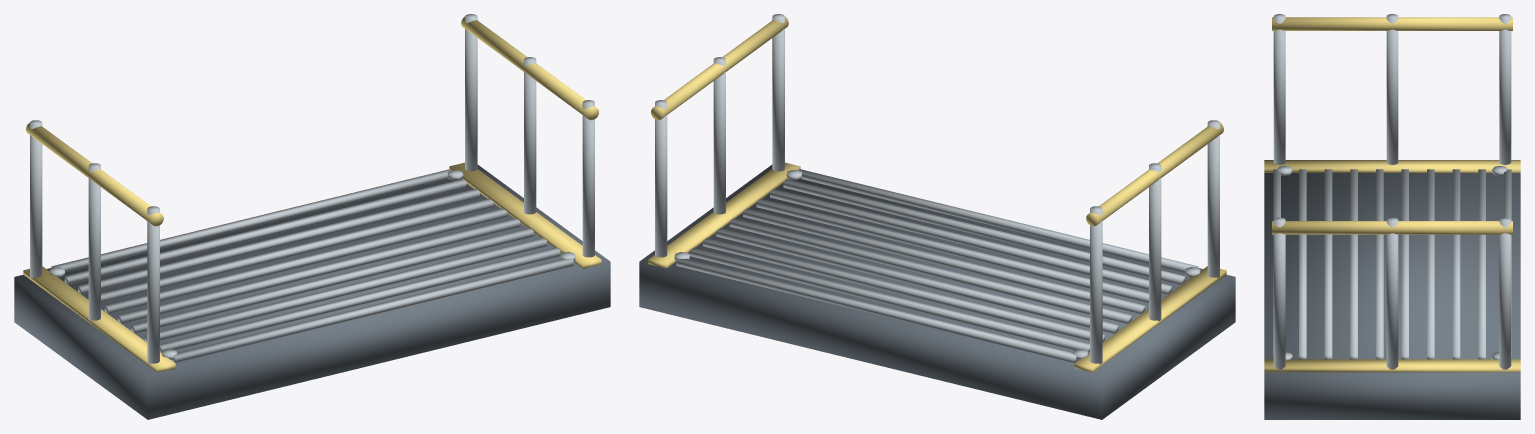
Rendered from catwalk_enhanced.glb.
3 views of the same model, side by side, from view 1: azimuth 30°, elevation 25°; view 2: azimuth 150°, elevation 25°; view 3: azimuth 270°, elevation 25° (orthographic). The views are drawn at different scales.
Visible parts, largest first — view 1: Base_dark, Grate_steel, Railing_steel, Markings_yellow, Railing_yellow; view 2: Base_dark, Grate_steel, Railing_steel, Markings_yellow, Railing_yellow; view 3: Base_dark, Grate_steel, Railing_steel, Railing_yellow, Markings_yellow, AnchorBolt_steel.
Part boxes in pixels (left/top/right/bottom): Base_dark: left=14, top=164, right=610, bottom=419; Grate_steel: left=51, top=169, right=573, bottom=362; Railing_steel: left=30, top=14, right=594, bottom=364; Markings_yellow: left=23, top=162, right=601, bottom=372; Railing_yellow: left=26, top=16, right=598, bottom=226; Base_dark: left=639, top=164, right=1235, bottom=419; Grate_steel: left=676, top=169, right=1198, bottom=362; Railing_steel: left=655, top=14, right=1219, bottom=364; Markings_yellow: left=648, top=162, right=1226, bottom=372; Railing_yellow: left=651, top=16, right=1223, bottom=226; Base_dark: left=1264, top=160, right=1520, bottom=419; Grate_steel: left=1273, top=169, right=1511, bottom=359; Railing_steel: left=1273, top=14, right=1511, bottom=369; Railing_yellow: left=1272, top=17, right=1512, bottom=234; Markings_yellow: left=1264, top=160, right=1520, bottom=372; AnchorBolt_steel: left=1277, top=166, right=1507, bottom=360.
Size of the model in its own units: 3 by 1.25 by 1.5.
